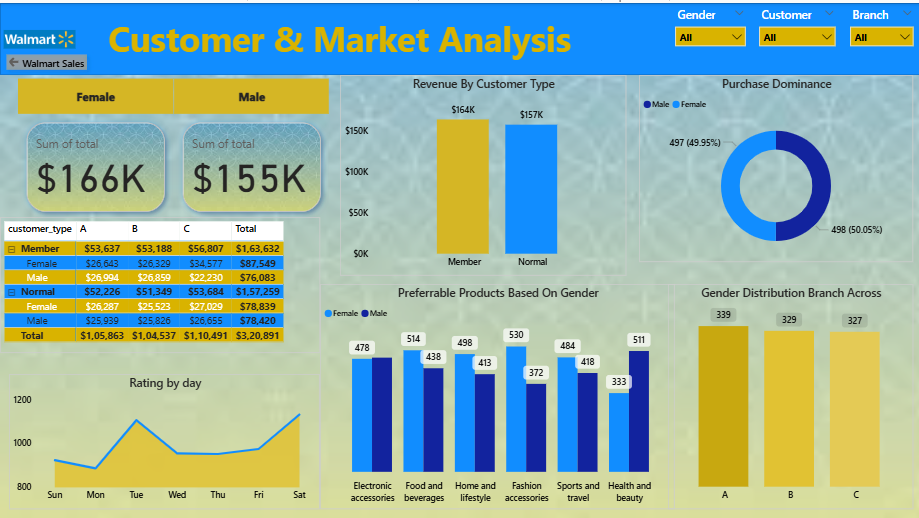

The dashboard page shown, as its layout file describes it:
{"tool":"powerbi","page":{"name":"Customer & Market Analysis","canvas":[1280,720],"ordinal":1},"visuals":[{"type":"shape","box":[0,0,1280.5,100.2],"z":0},{"type":"image","box":[0,19.8,110.1,62.1],"z":1},{"type":"textbox","box":[110.1,11.3,724.2,79.1],"z":2},{"type":"donutChart","title":"Purchase Dominance ","fields":{"Category":["sales.gender"],"Y":["CountNonNull(sales.invoice_id)"]},"box":[888.2,100.1,380.8,259.9],"z":4},{"type":"columnChart","title":"Revenue By Customer Type","fields":{"Category":["sales.customer_type"],"Y":["Sum(sales.total)"]},"box":[472.6,100.1,397.5,279.4],"z":5},{"type":"columnChart","title":"Gender Distribution Branch Across ","fields":{"Y":["CountNonNull(sales.gender)"],"Category":["sales.branch"]},"box":[928.5,390.6,340.5,312.7],"z":6},{"type":"pivotTable","fields":{"Rows":["sales.customer_type","sales.gender"],"Columns":["sales.branch"],"Values":["Sum(sales.total)"]},"box":[6.9,307.2,444.8,189],"z":7},{"type":"lineChart","title":"Rating by day","fields":{"Y":["Sum(sales.rating)"],"Category":["DATETABLE.day"]},"box":[12.5,515.7,432.3,187.6],"z":8},{"type":"lineClusteredColumnComboChart","title":"Preferrable Products Based On Gender","fields":{"Category":["sales.product_line"],"Y":["Sum(sales.quantity)"],"Series":["sales.gender"]},"box":[444.8,390.6,493.4,312.7],"z":9},{"type":"cardVisual","fields":{"Rows":["sales.gender"],"Data":["Sum(sales.total)"]},"box":[0,100.1,472.6,207.1],"z":10},{"type":"slicer","fields":{"Values":["sales.gender"]},"box":[928.5,0,118.1,63.9],"z":11},{"type":"slicer","fields":{"Values":["sales.customer_type"]},"box":[1045.3,0,126.5,63.9],"z":12},{"type":"slicer","fields":{"Values":["sales.branch"]},"box":[1171.7,0,108.4,63.9],"z":13},{"type":"actionButton","box":[0,63.2,129.9,39.3],"z":14}]}

Visuals, with their boxes in screenshot pixels (x1, y1, x2, y2), scaled from the page's 1280x720 canvas onto the 919x518 screenshot:
shape: 0/0/918/72
image: 0/14/79/59
textbox: 79/8/599/65
"Purchase Dominance " donutChart: 638/72/911/259
"Revenue By Customer Type" columnChart: 339/72/625/273
"Gender Distribution Branch Across " columnChart: 667/281/911/506
pivotTable - sales.customer_type x sales.gender: 5/221/324/357
"Rating by day" lineChart: 9/371/319/506
"Preferrable Products Based On Gender" lineClusteredColumnComboChart: 319/281/674/506
cardVisual - sales.gender x Sum(sales.total): 0/72/339/221
slicer - sales.gender: 667/0/751/46
slicer - sales.customer_type: 750/0/841/46
slicer - sales.branch: 841/0/918/46
actionButton: 0/45/93/74
